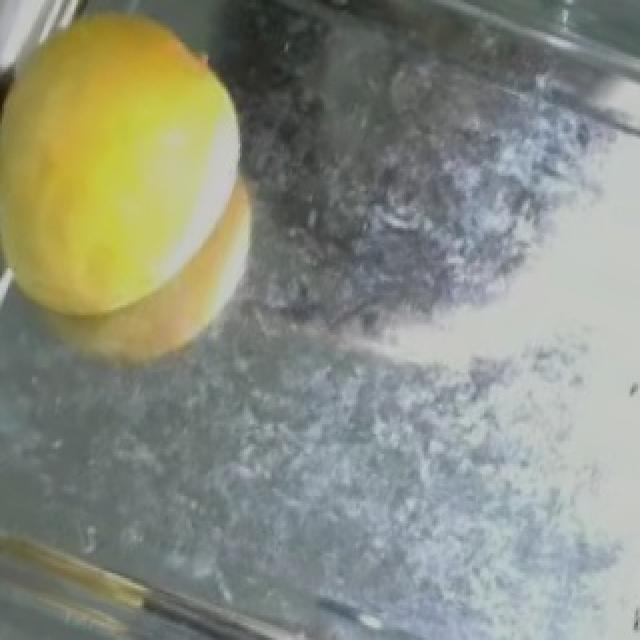fruit: (4, 2, 288, 364), (0, 513, 170, 640)
